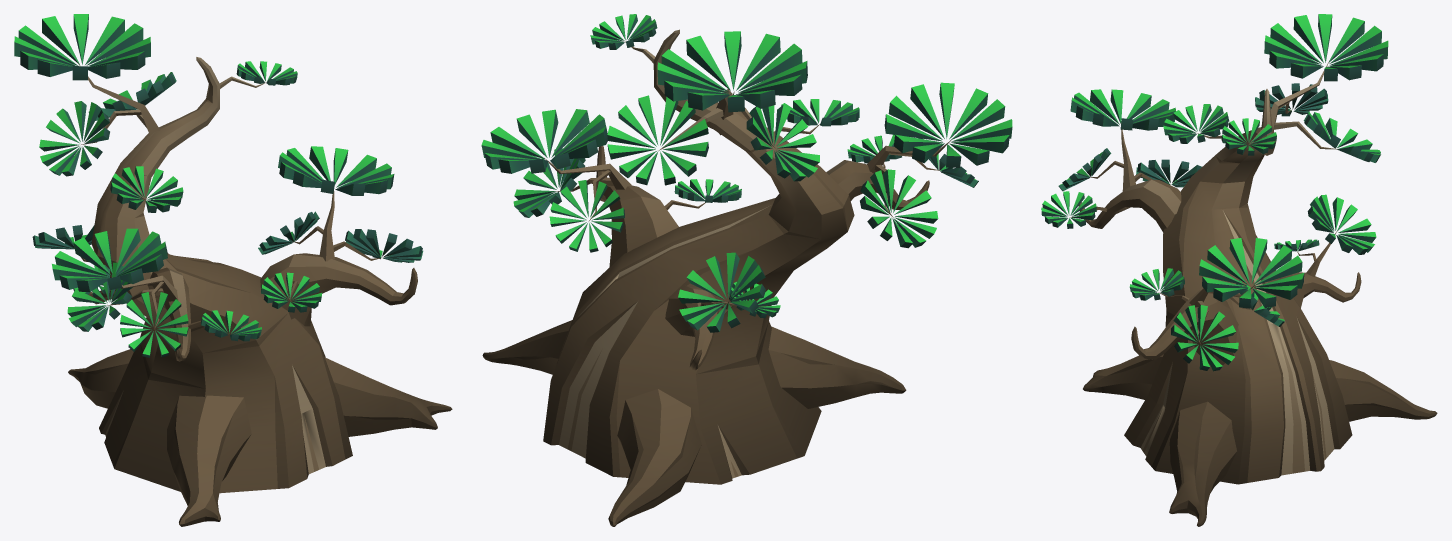
File: ancient_tree_1.001.glb
3 views of the same model, side by side, from view 1: azimuth 30°, elevation 25°; view 2: azimuth 150°, elevation 25°; view 3: azimuth 270°, elevation 25° (orthographic). The views are drawn at different scales.
Visible parts, largest first — view 1: ancient_tree_1.001; view 2: ancient_tree_1.001; view 3: ancient_tree_1.001.
Boxes of the visible parts, x1,y1,x2,y2 form: ancient_tree_1.001: [14, 14, 452, 526]; ancient_tree_1.001: [481, 14, 1012, 526]; ancient_tree_1.001: [1041, 14, 1437, 526].
Bounding box in the file's own units: 6.88 × 5.98 × 6.01.
1 material, 1 textured.
